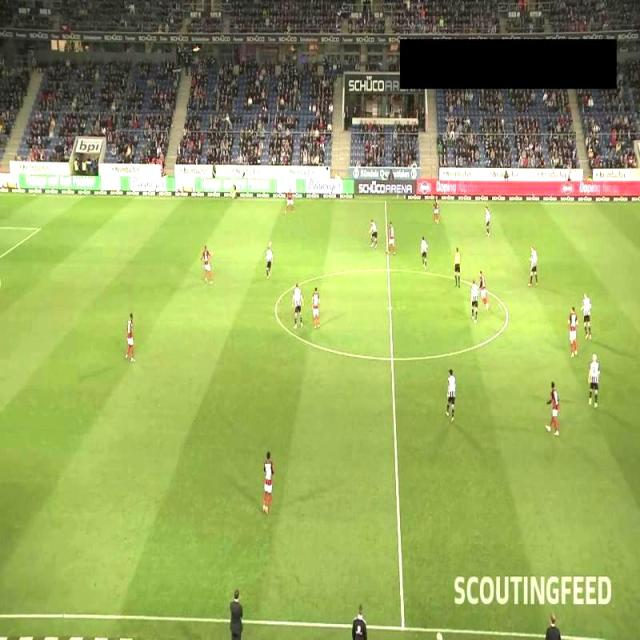bigarea_top_inner: (34, 222, 44, 234)
halfcircle_bottom: (386, 353, 398, 365)
halfcircle_top: (380, 263, 395, 277)
midline_bottom_intersection: (393, 620, 412, 637)
midline_top_intersection: (380, 196, 391, 207)
